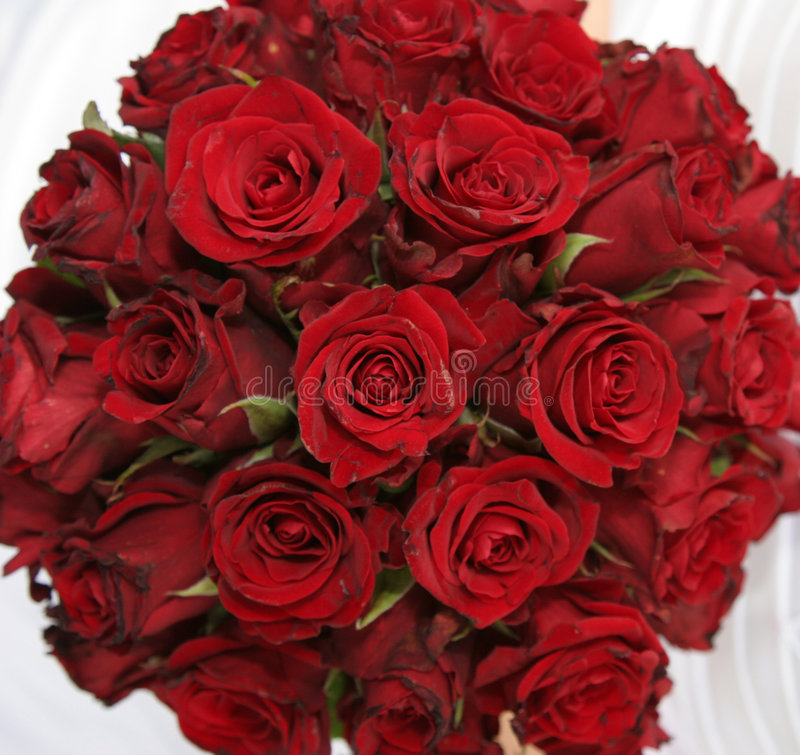RedRose: (563, 399, 793, 653), (163, 78, 392, 278), (290, 280, 500, 484), (40, 486, 233, 689), (381, 93, 592, 274), (91, 279, 295, 457), (507, 294, 692, 471), (160, 590, 357, 755), (10, 124, 183, 302), (213, 449, 382, 626), (0, 300, 131, 510), (501, 598, 670, 755), (416, 452, 577, 611), (94, 0, 307, 114), (594, 33, 774, 163), (659, 280, 800, 429), (312, 0, 485, 111), (557, 152, 724, 265), (480, 0, 607, 135), (356, 622, 482, 755), (682, 158, 800, 280)
